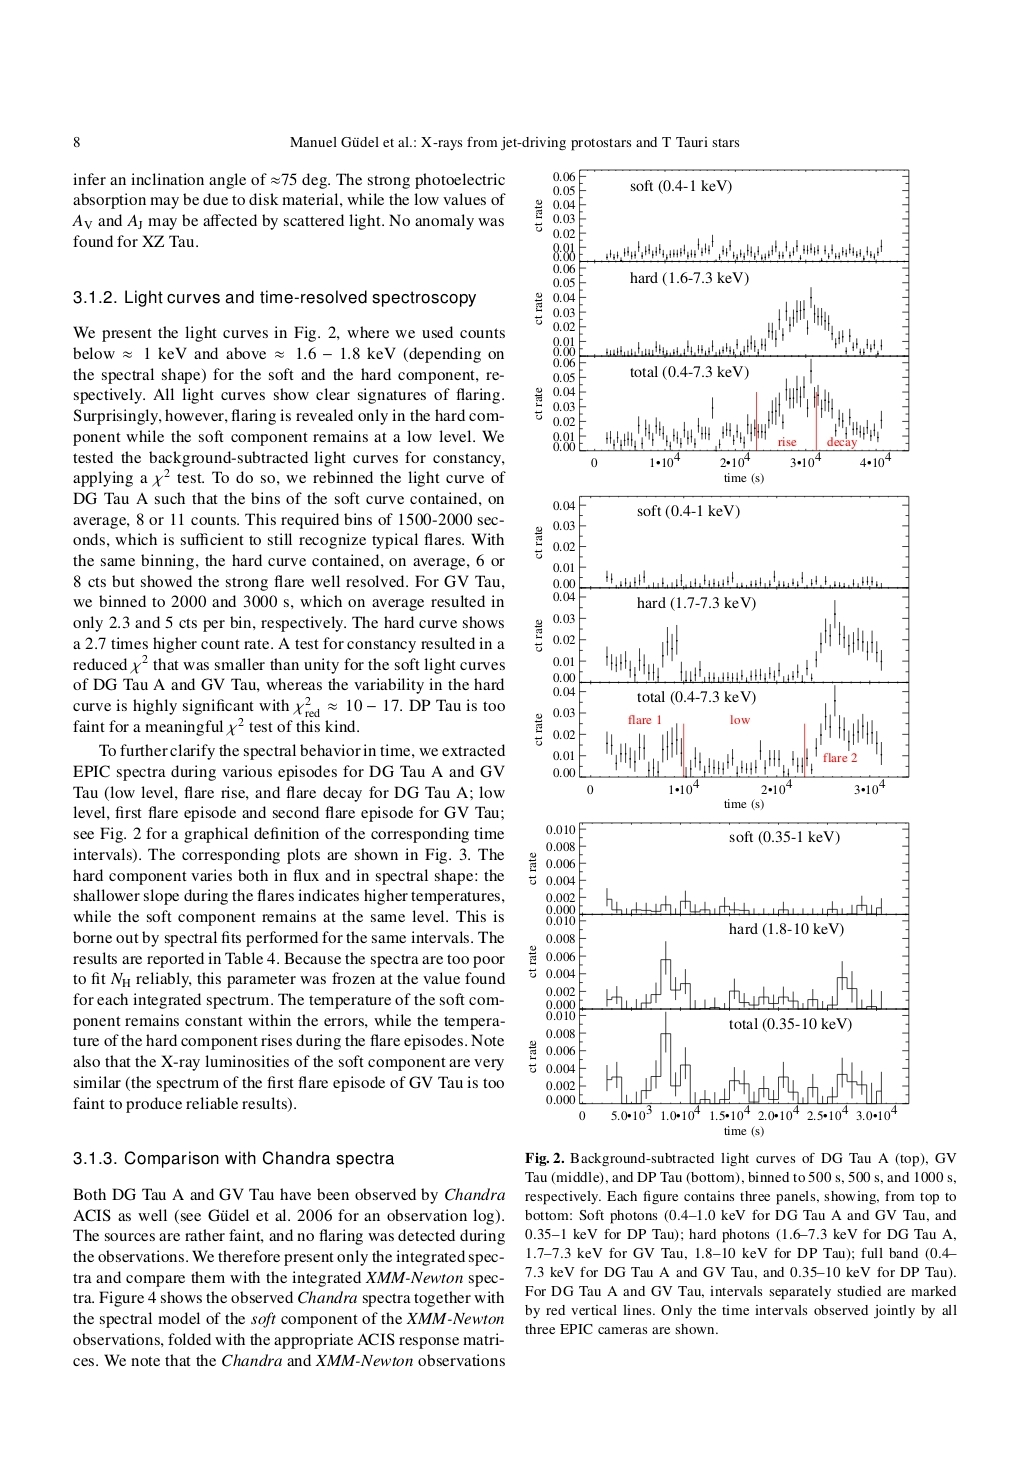figure: (528, 822, 909, 1137), (534, 170, 909, 484), (534, 495, 909, 810)
